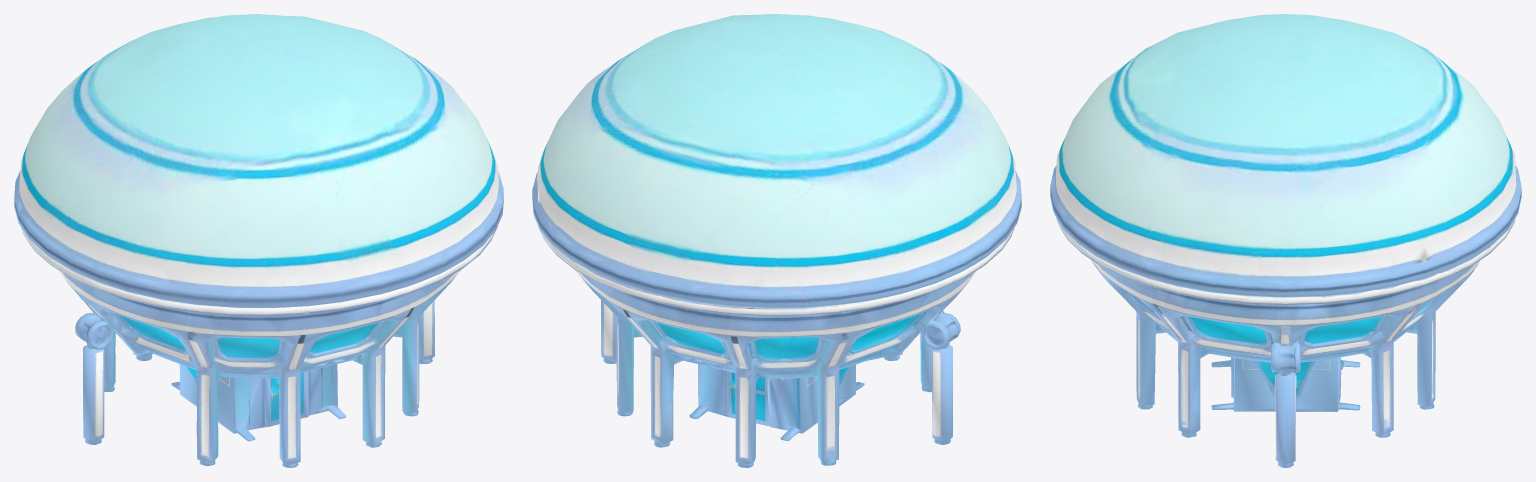
File: c_oasis.glb
3 renders of one model, left to right at view 1: azimuth 30°, elevation 25°; view 2: azimuth 150°, elevation 25°; view 3: azimuth 270°, elevation 25°, orthographic. The views are drawn at different scales.
Bounding box in the file's own units: 1.91 × 1.54 × 1.91.
Materials: 1 (1 with a texture image).
